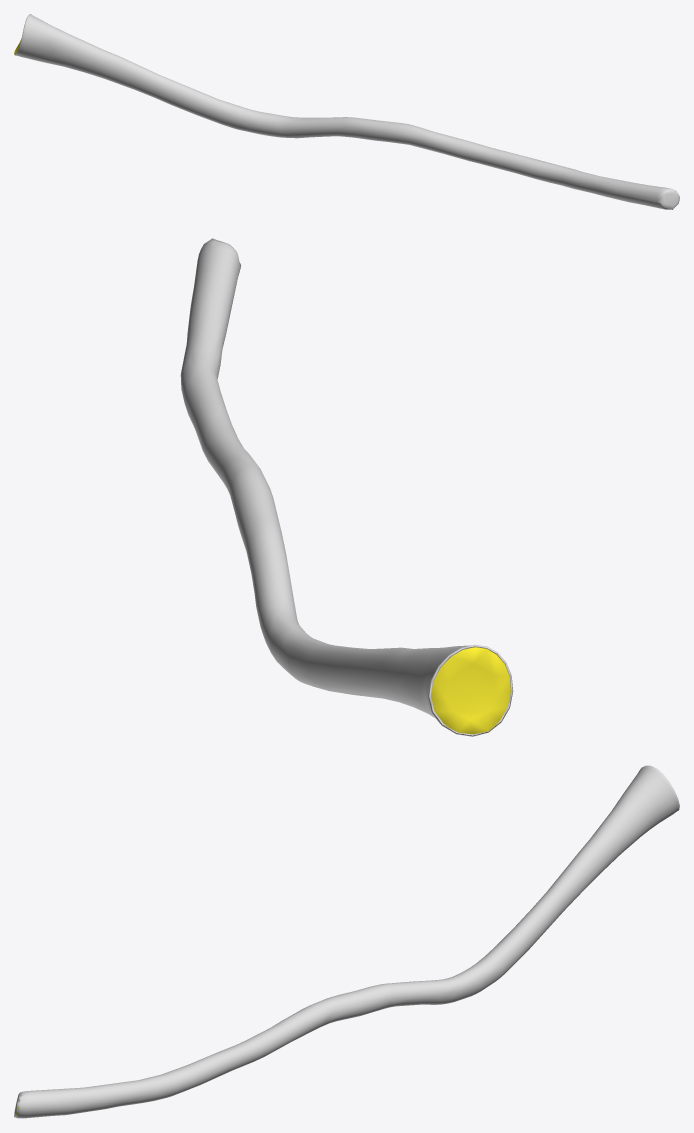
Rendered from optic_nerve_l.glb.
The picture shows the model from 3 angles, top to bottom: view 1: azimuth 30°, elevation 25°; view 2: azimuth 150°, elevation 25°; view 3: azimuth 270°, elevation 25°; orthographic projection. The views are drawn at different scales.
Parts seen in each view (by area): view 1: VH_F_dura_mater_left; view 2: VH_F_dura_mater_left, VH_F_left_optic_nerve; view 3: VH_F_dura_mater_left.
Part boxes in pixels (<box>): VH_F_dura_mater_left: <box>14,14,679,209</box>; VH_F_dura_mater_left: <box>180,238,513,736</box>; VH_F_left_optic_nerve: <box>431,647,510,734</box>; VH_F_dura_mater_left: <box>14,765,679,1118</box>.
Bounding box in the file's own units: 0.0358 × 0.00884 × 0.0412.
